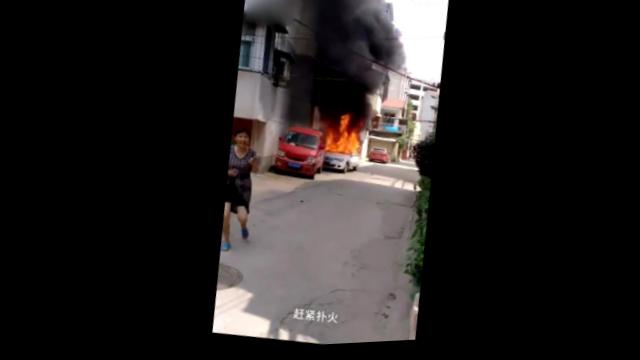fire: (323, 129, 359, 158), (337, 116, 349, 135)
